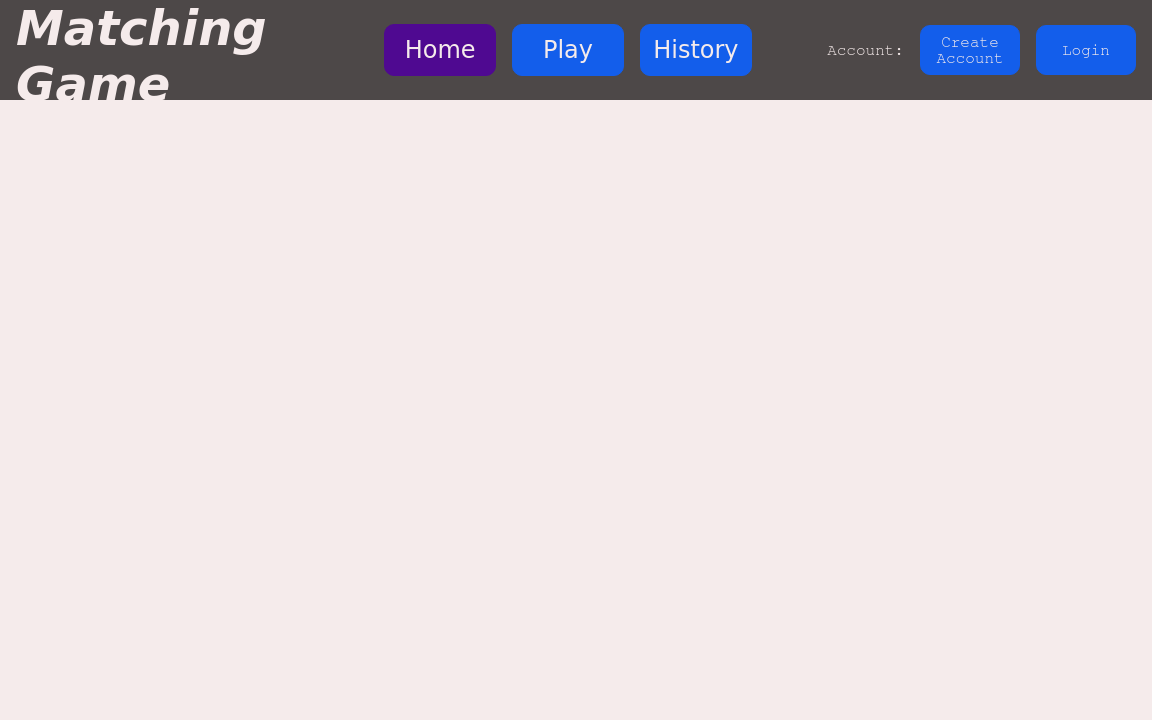
it: Header component › Tests when the user is logged out › Testing the Login Modal › Login form submission failed: incorrect credentials
The image size is (1152, 720).
Click the button "Login" at (1086, 50), box [1036, 25, 1136, 75]
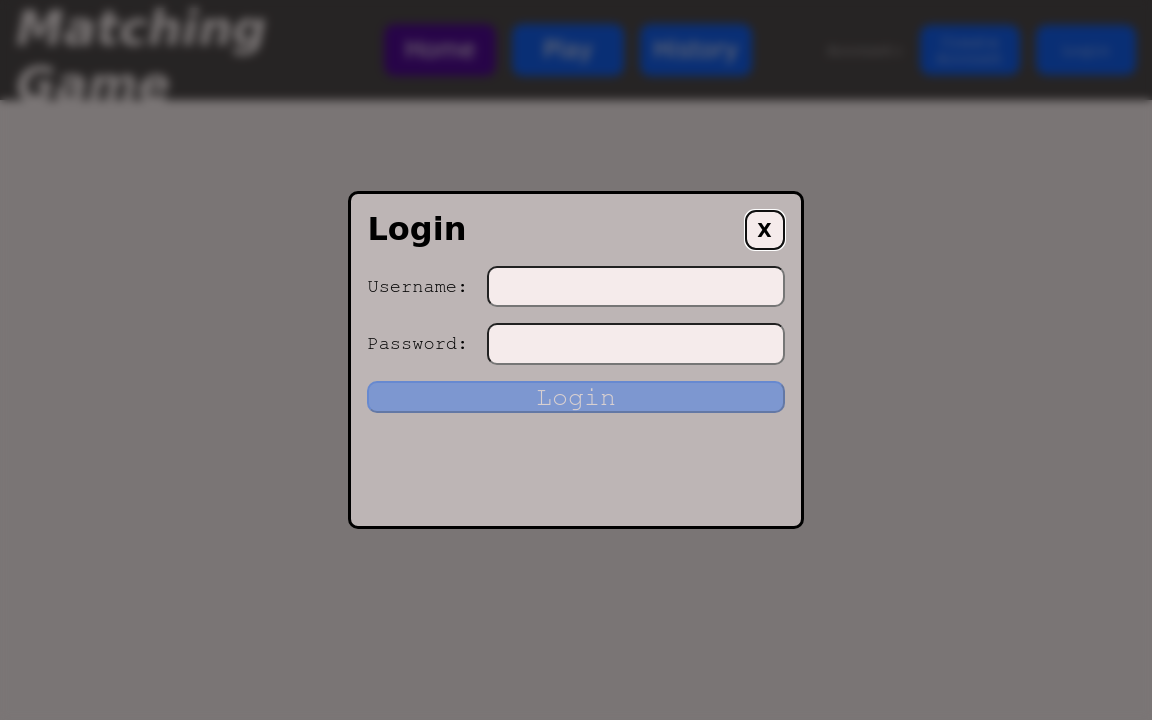
Type "tester" into the field labelled "Username:" at (636, 287), box [487, 266, 785, 307]
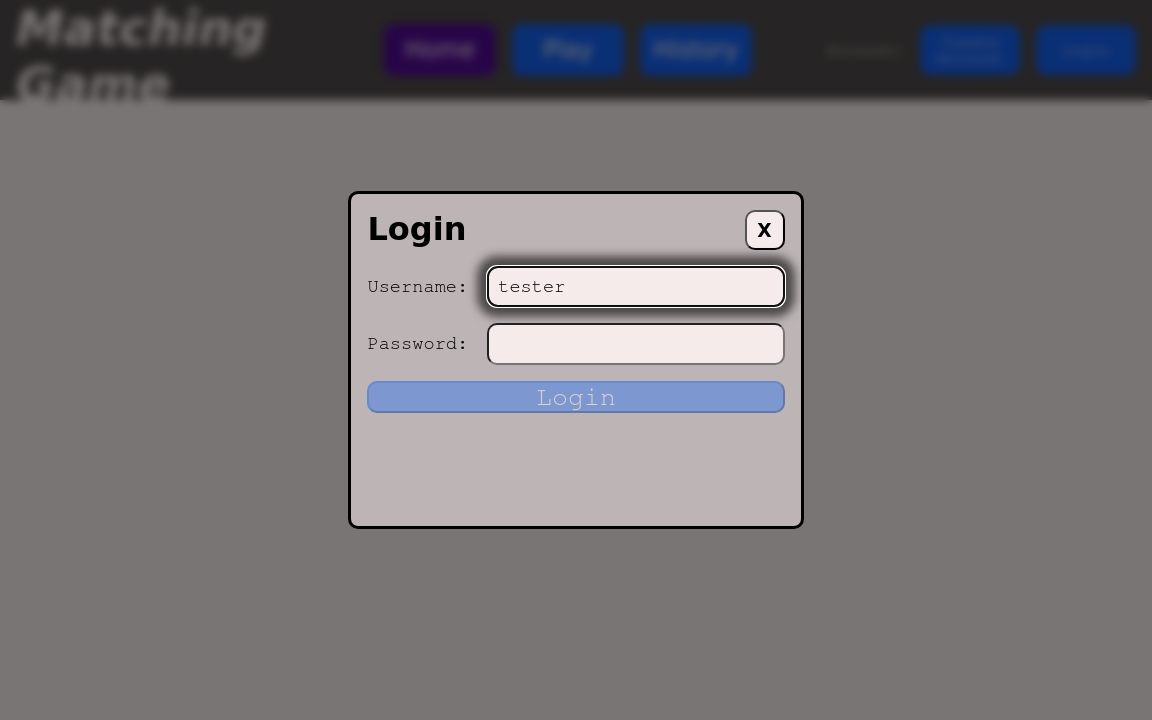
Type "Password1234" into the password field labelled "Password:" at (636, 344), box [487, 323, 785, 365]
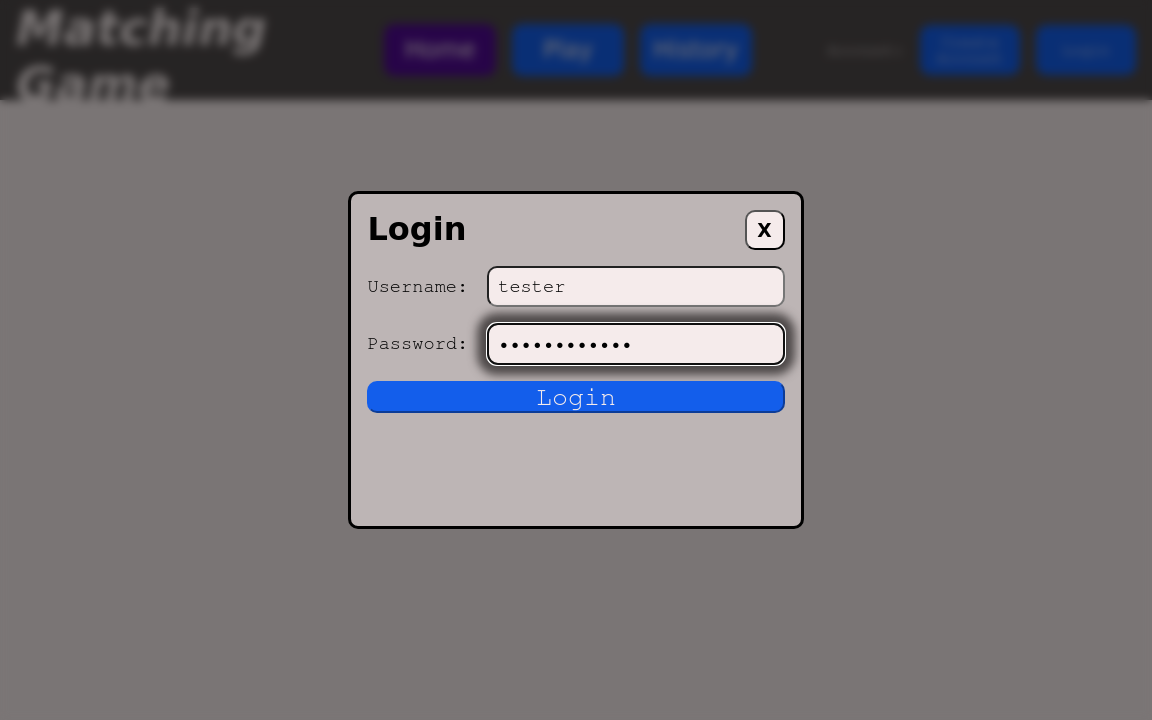
Click the button "Login" at (576, 397), box [368, 381, 785, 413]
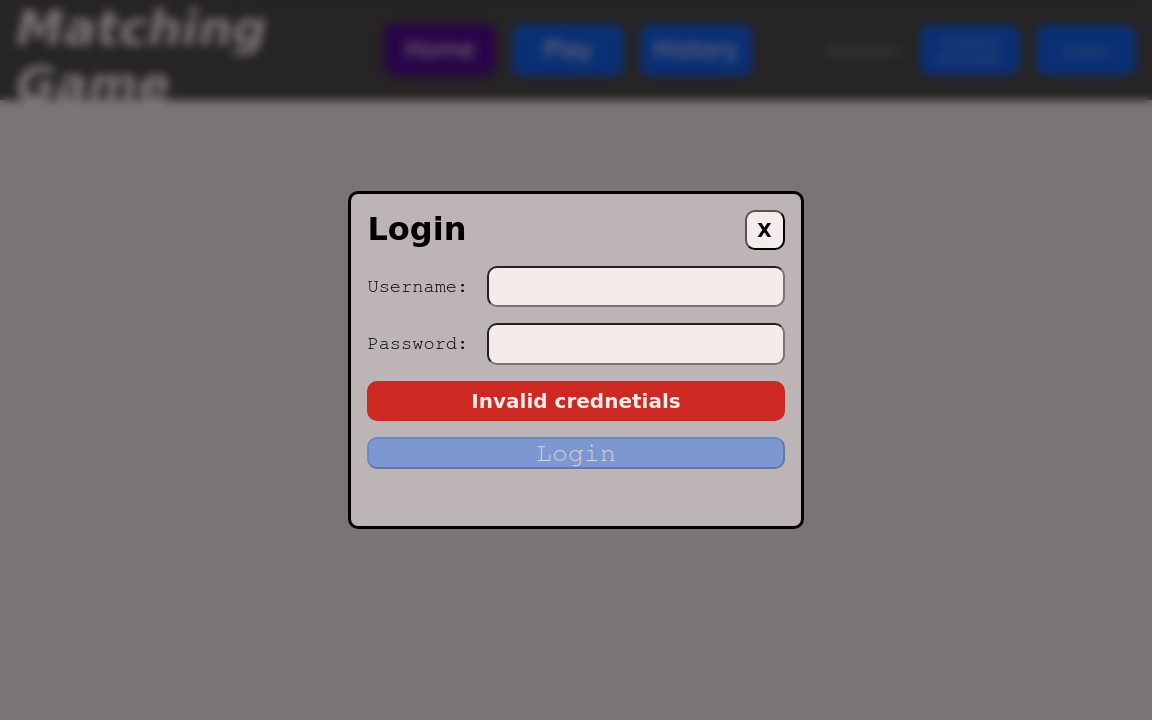
Expected: the button "Login" is disabled, [368, 437, 785, 469]
Expected: the text "Invalid crednetials" is shown, [471, 389, 681, 413]
